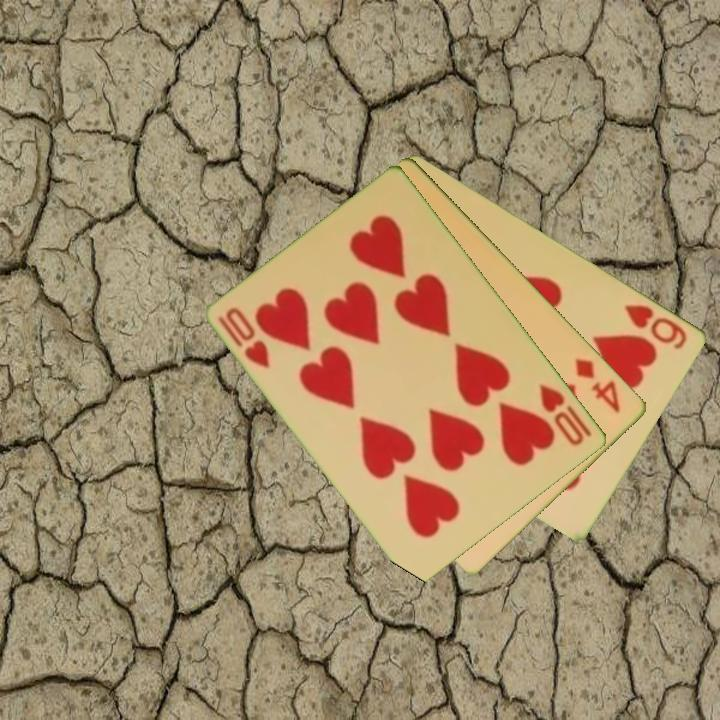10h: (535, 379, 596, 449), (215, 303, 274, 372)
4d: (572, 354, 624, 416)
6h: (621, 300, 691, 352)
